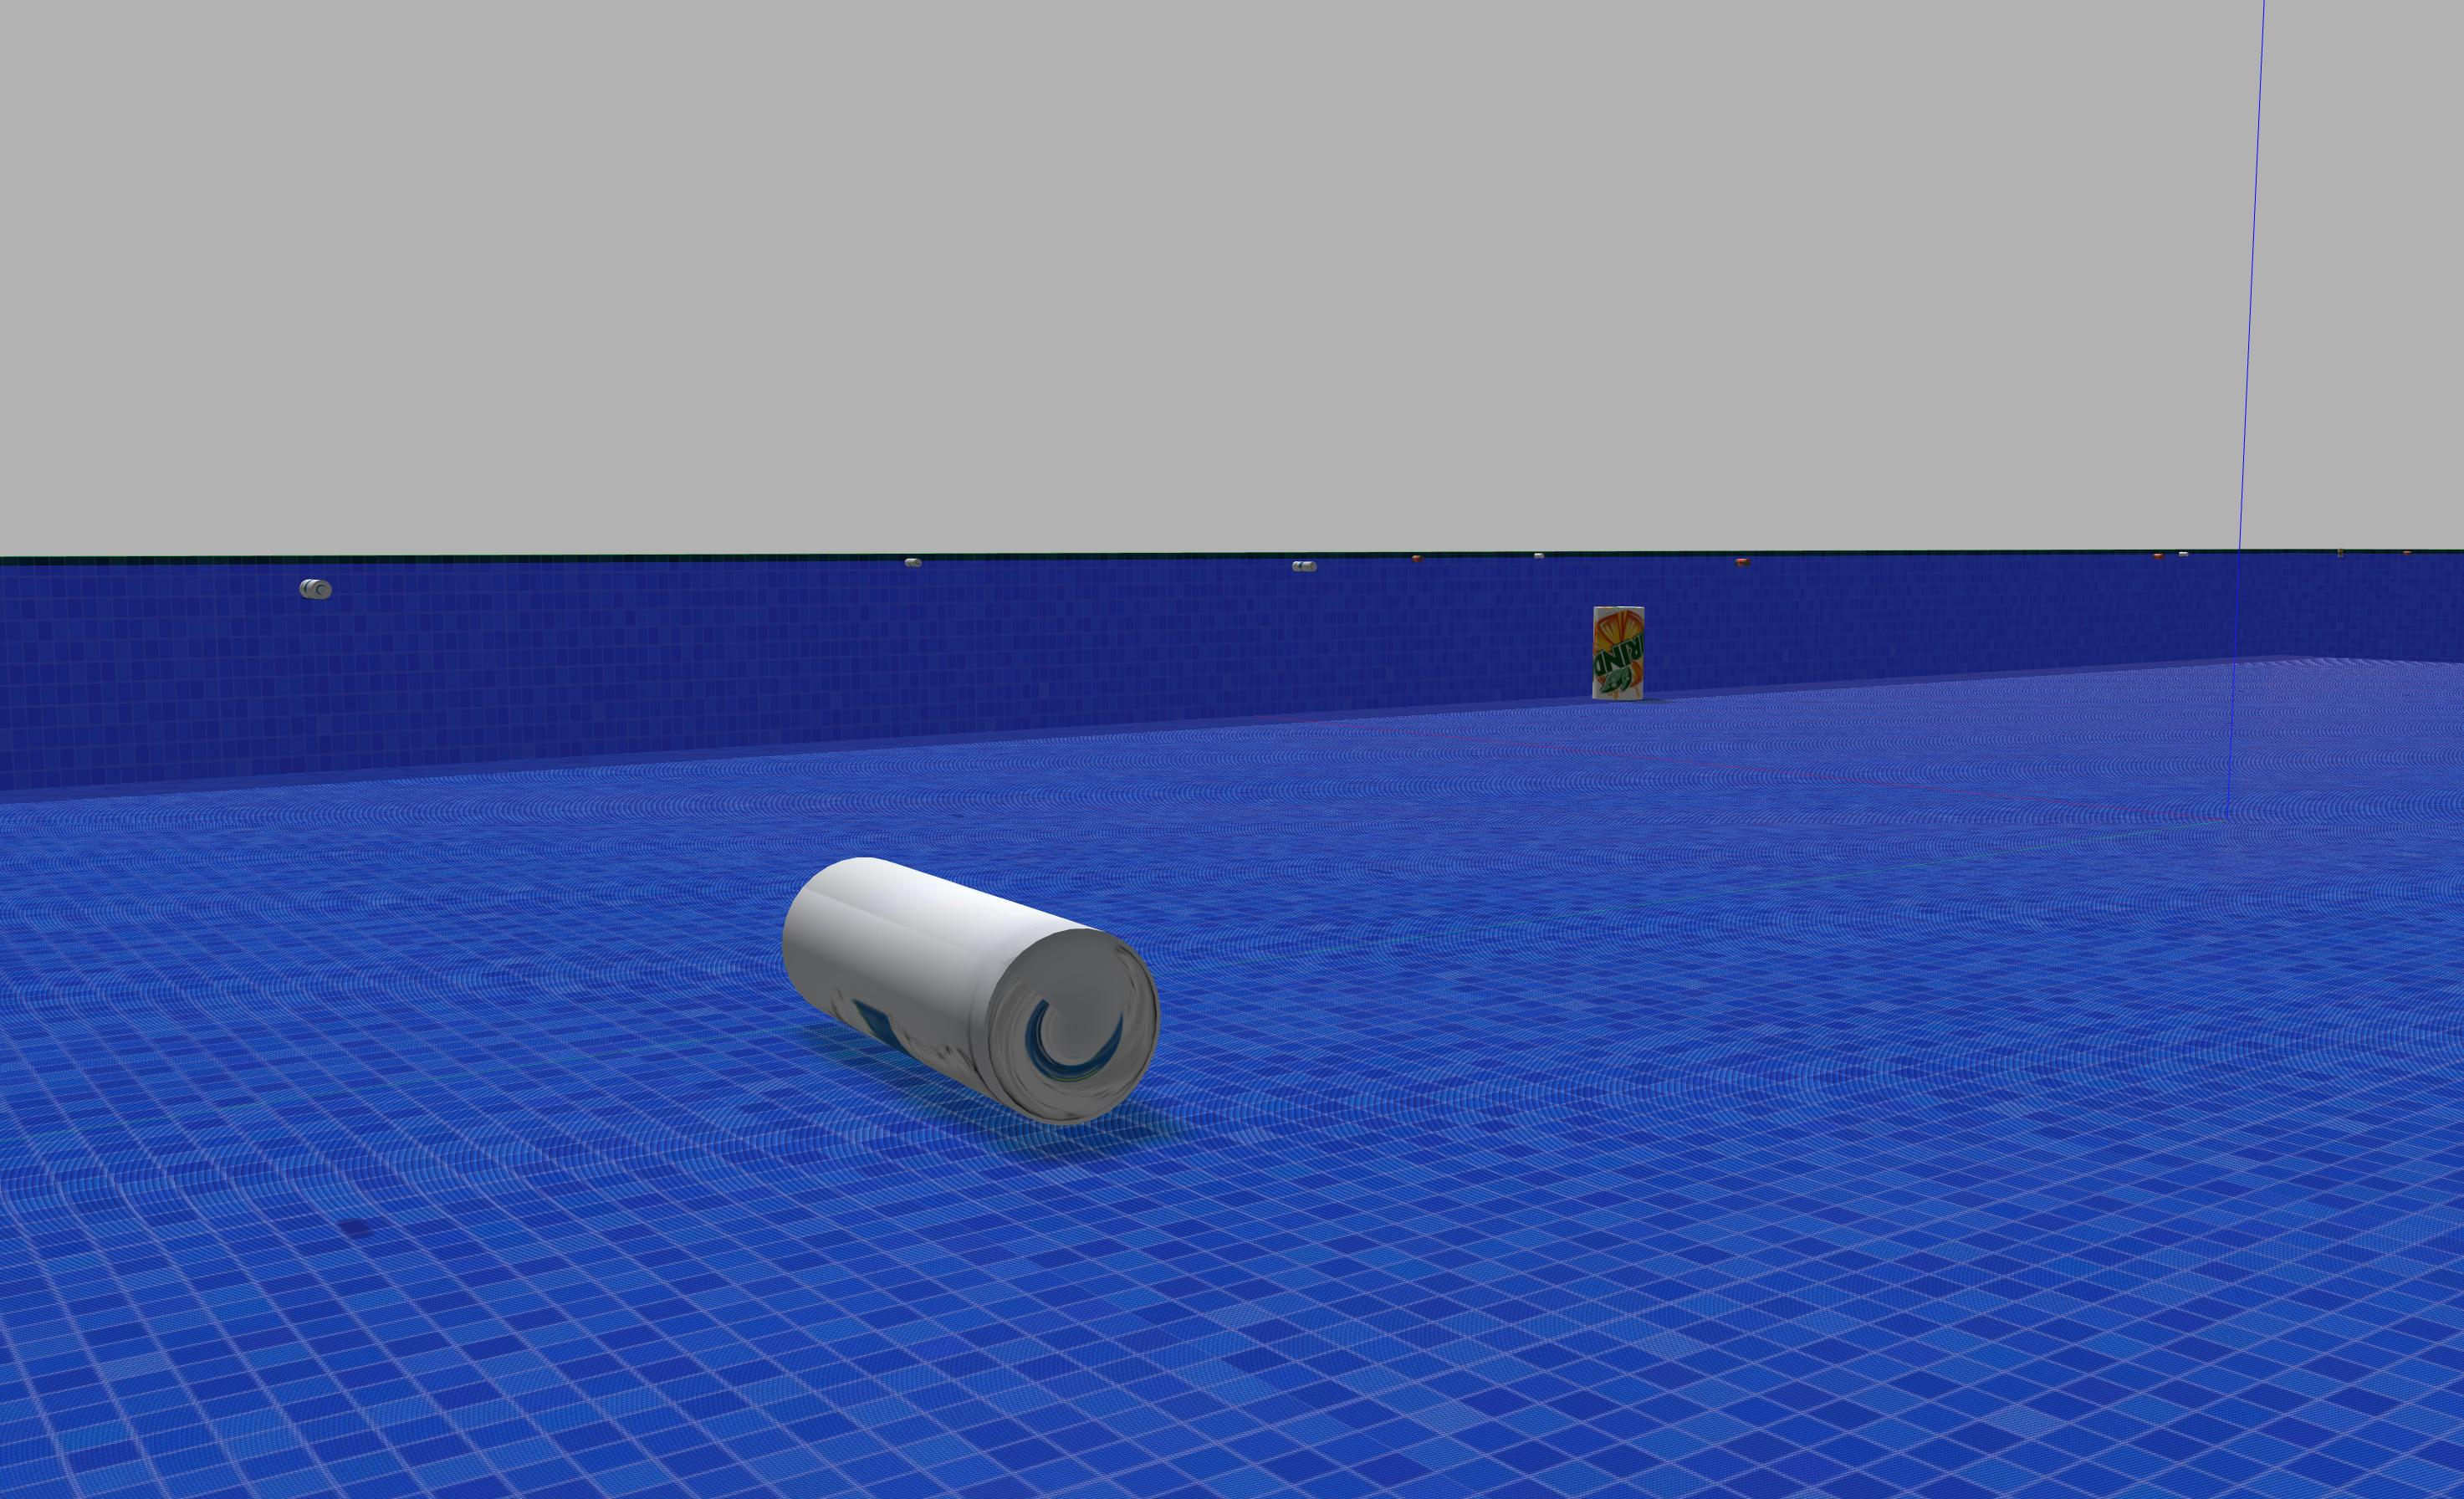Can: (732, 832, 1174, 1133), (1563, 596, 1667, 700)
